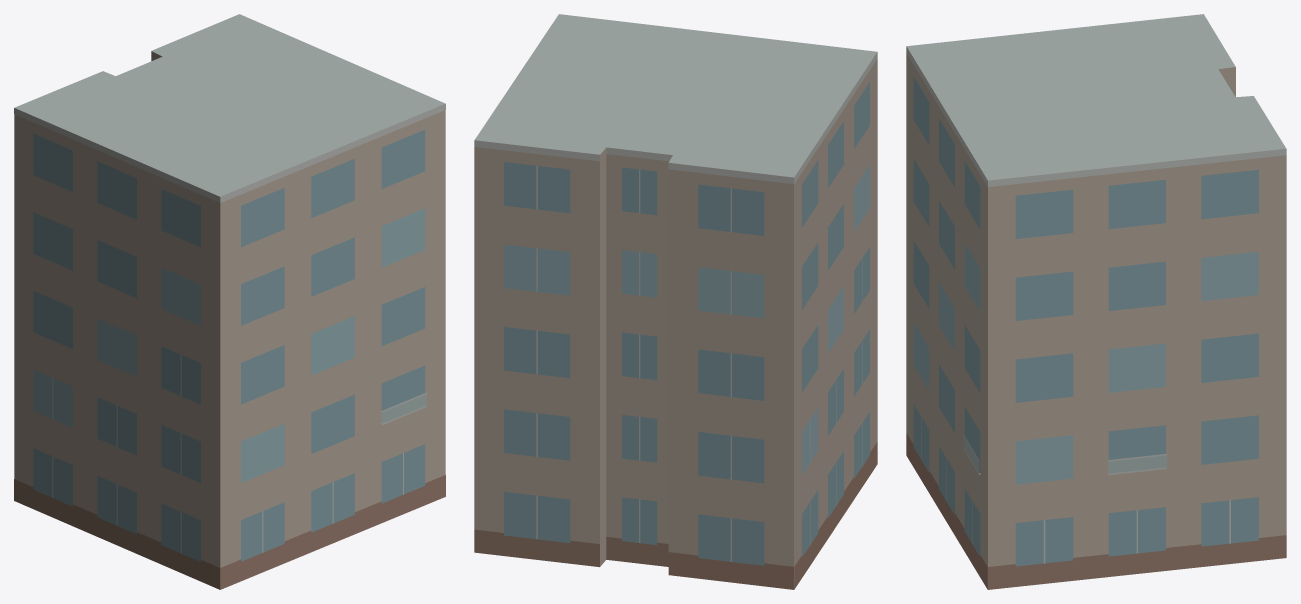
File: survey-upis-32587323.glb
3 views of the same model, side by side, from view 1: azimuth 30°, elevation 25°; view 2: azimuth 150°, elevation 25°; view 3: azimuth 270°, elevation 25° (orthographic). The views are drawn at different scales.
Visible parts, largest first — view 1: survey-upis-32587323.tmp; view 2: survey-upis-32587323.tmp; view 3: survey-upis-32587323.tmp.
Part boxes in pixels (bbox=[...]): survey-upis-32587323.tmp: bbox=[14, 14, 445, 589]; survey-upis-32587323.tmp: bbox=[474, 14, 877, 589]; survey-upis-32587323.tmp: bbox=[906, 14, 1286, 589].
Size of the model in its own units: 13.33 by 15.25 by 12.85.
